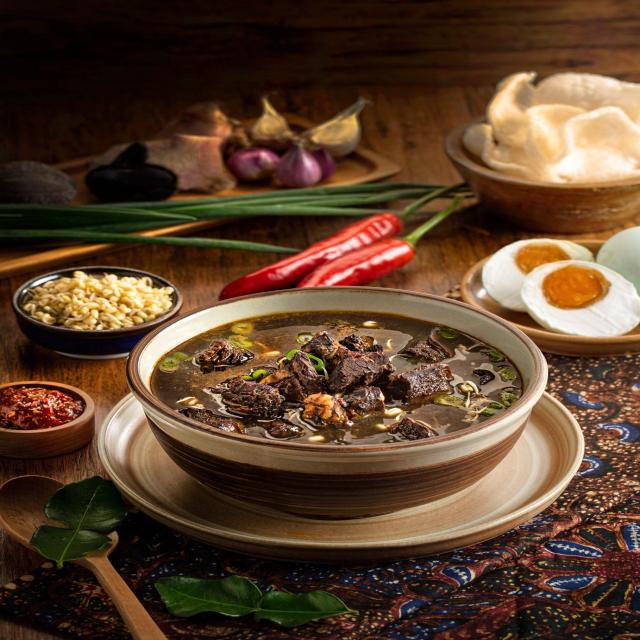Rawon: (164, 298, 512, 441)
